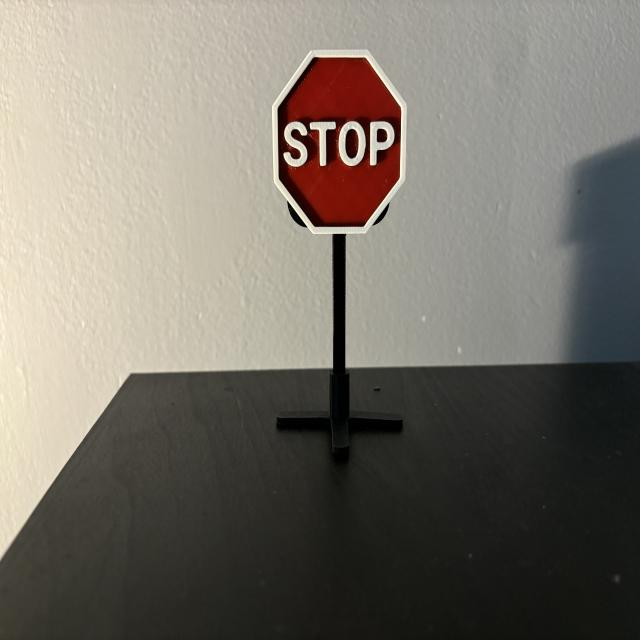sign_stop: (273, 50, 407, 234)
